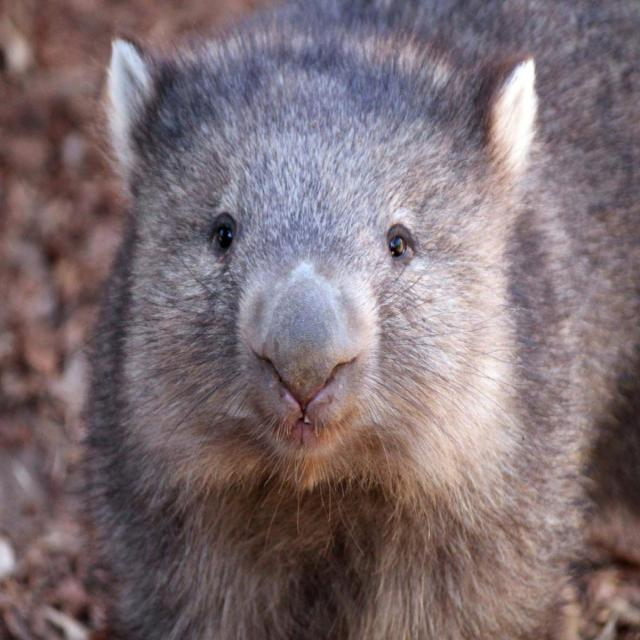wombats: (84, 0, 640, 639)
